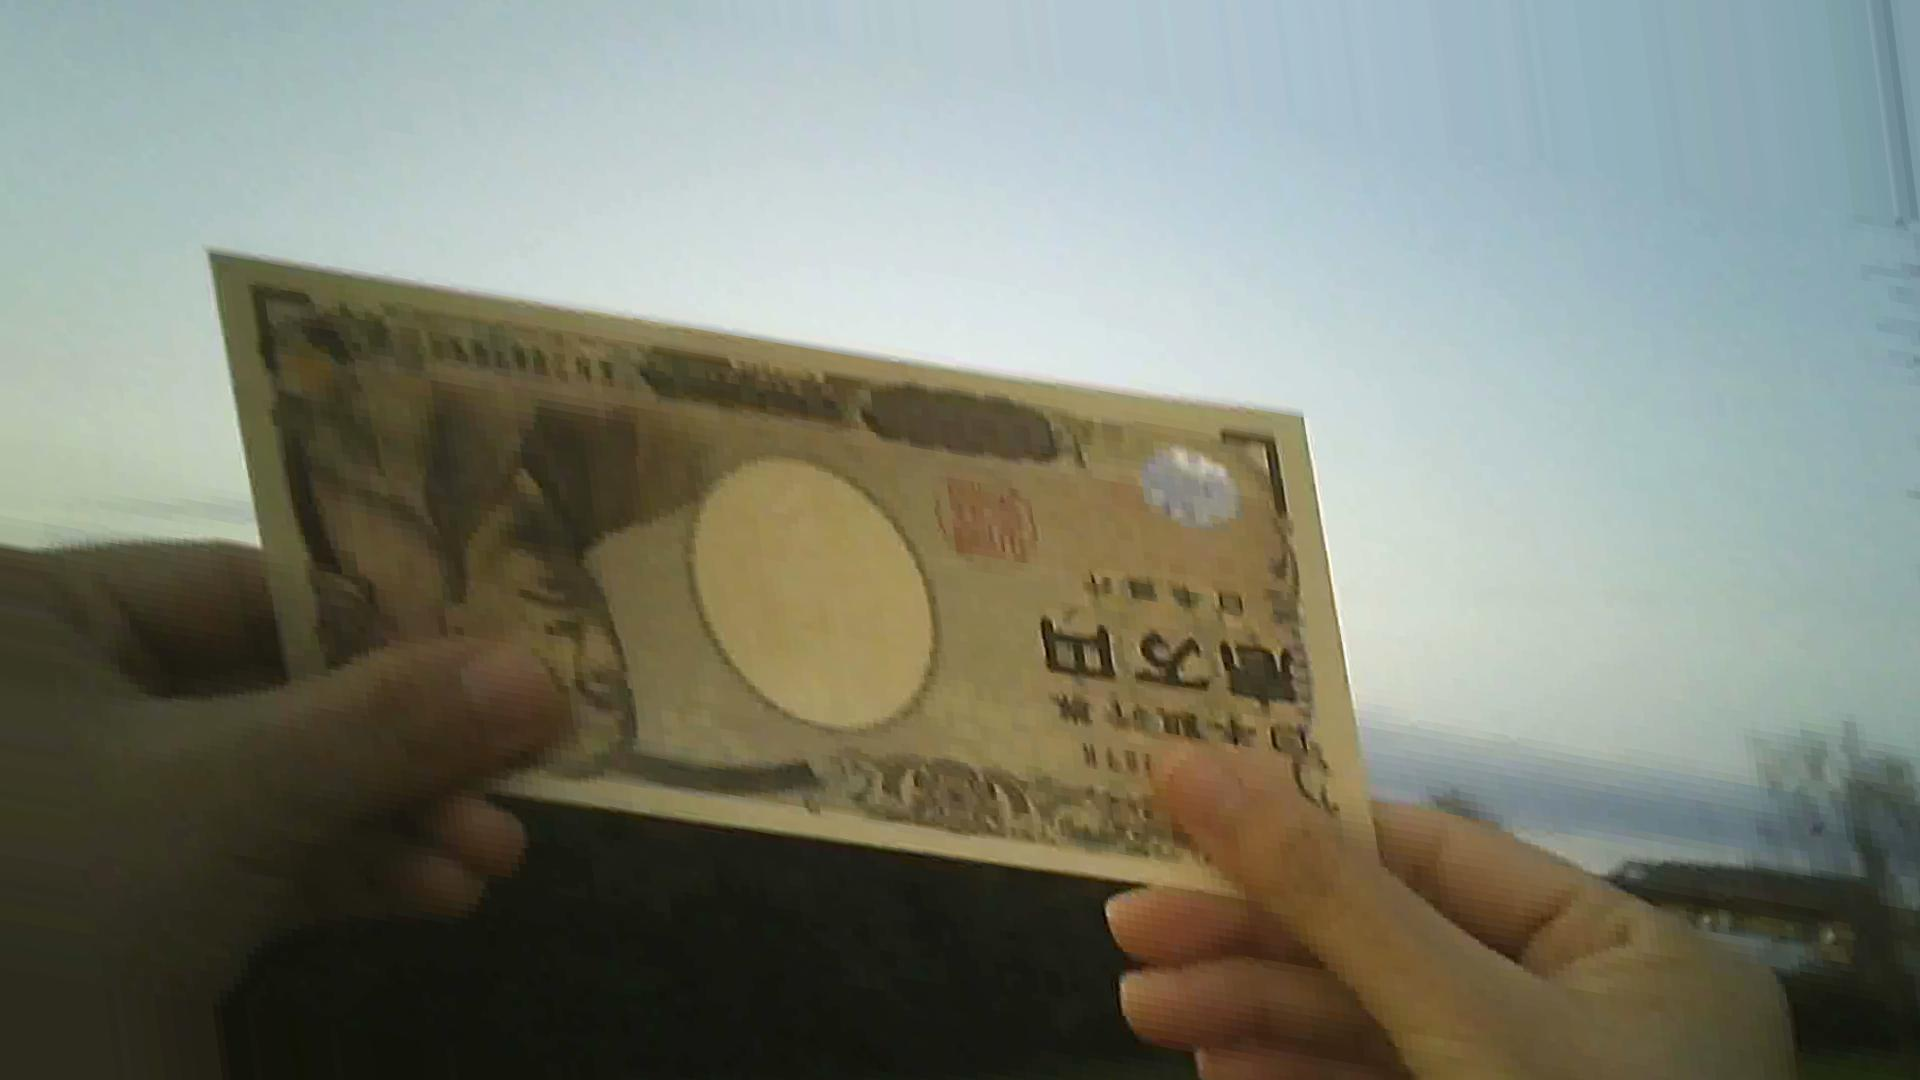10,000 Yen: (181, 222, 1433, 952)
